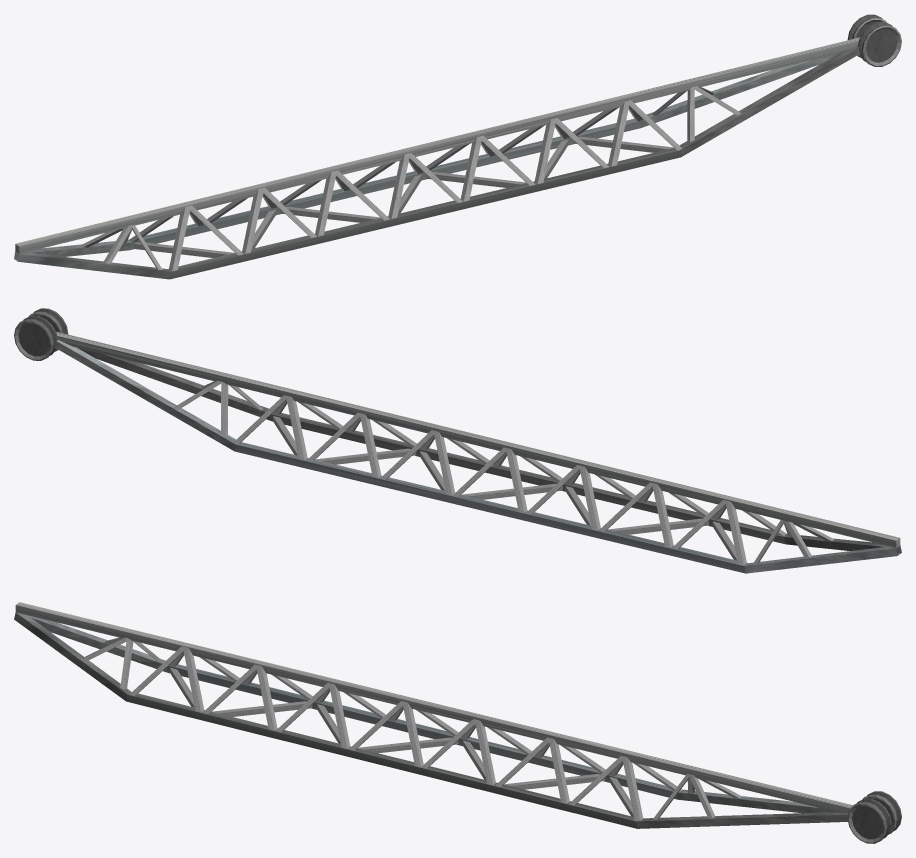
Rendered from arm.obj.
The picture shows the model from 3 angles, top to bottom: view 1: azimuth 30°, elevation 25°; view 2: azimuth 150°, elevation 25°; view 3: azimuth 330°, elevation 25°; orthographic projection.
Parts seen in each view (by area): view 1: Cube.003_Cube.000, Cube_Cube.001, Cube.001_Cube.002, Cylinder; view 2: Cube.003_Cube.000, Cube_Cube.001, Cube.001_Cube.002, Cylinder; view 3: Cube.003_Cube.000, Cube_Cube.001, Cube.001_Cube.002, Cylinder.
Boxes of the visible parts, x1,y1,x2,y2 form: Cube.003_Cube.000: (14,37,859,279); Cube_Cube.001: (81,86,741,271); Cube.001_Cube.002: (133,136,682,257); Cylinder: (847,14,901,66); Cube.003_Cube.000: (54,331,901,573); Cube_Cube.001: (174,380,834,565); Cube.001_Cube.002: (273,416,737,560); Cylinder: (14,308,68,360); Cube.003_Cube.000: (14,602,852,828); Cube_Cube.001: (81,637,741,821); Cube.001_Cube.002: (170,667,638,827); Cylinder: (847,791,901,843).
Bounding box in the file's own units: 10.16 × 0.7571 × 0.8806.
4 materials, 4 textured.
